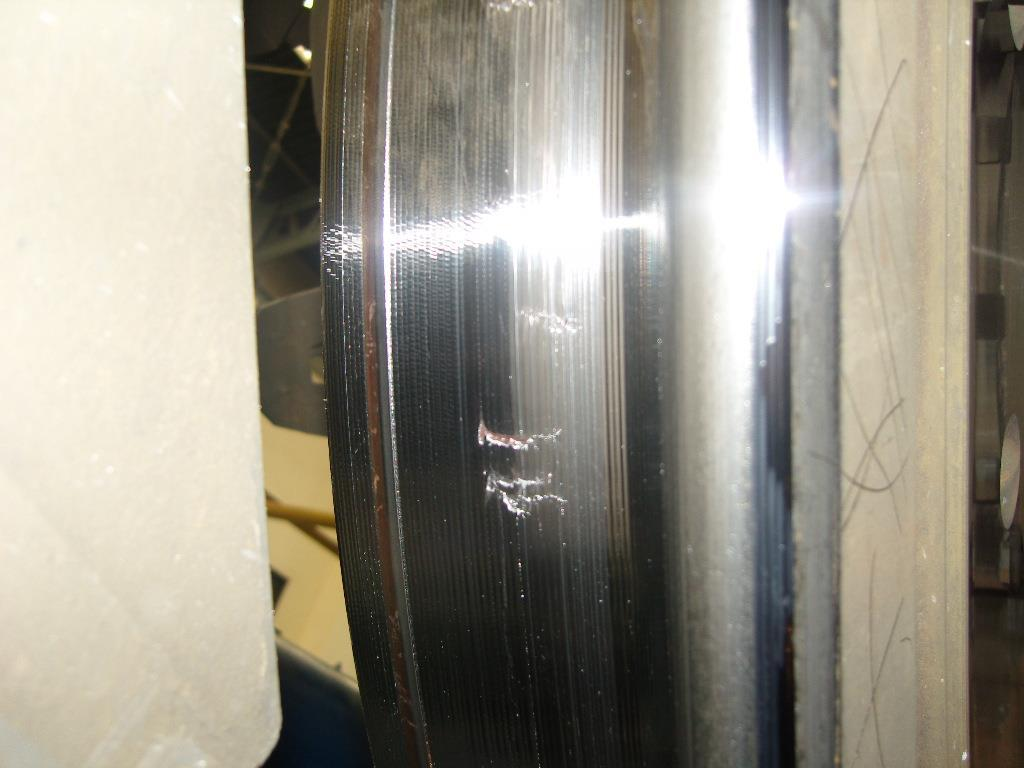Cracks-Scratches: (478, 468, 570, 520), (475, 413, 566, 453), (514, 311, 591, 336)
